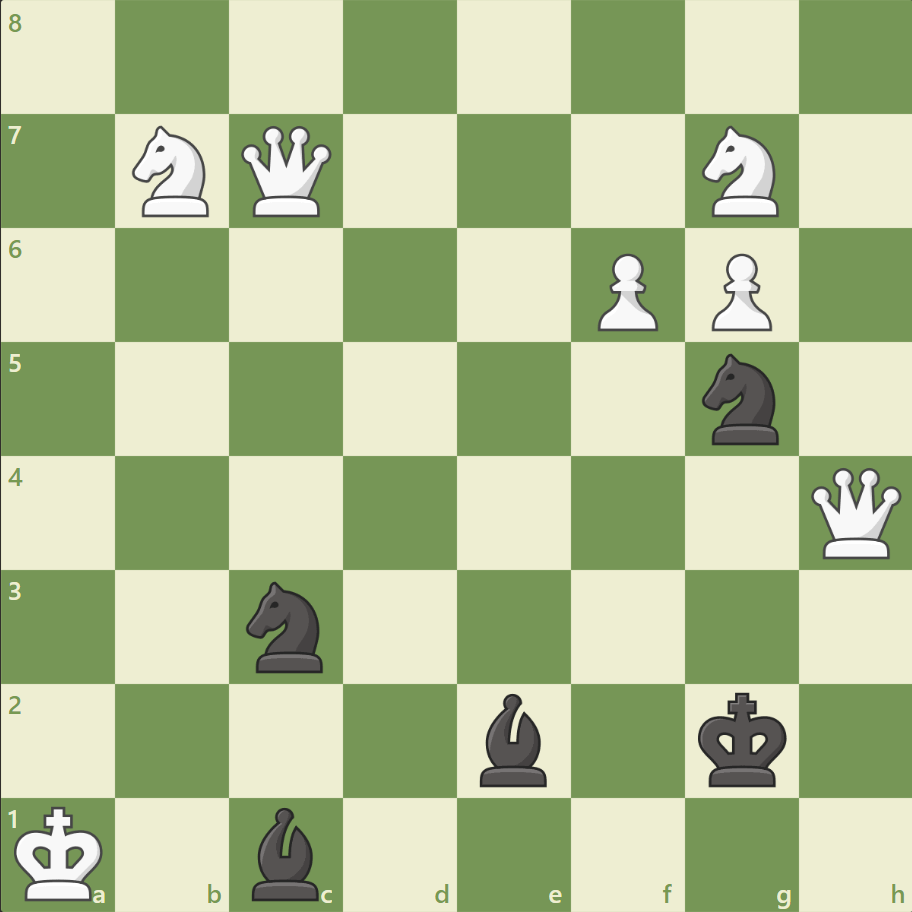K: (11, 798, 111, 906)
N: (124, 121, 222, 223), (692, 121, 789, 223)
P: (701, 246, 776, 337), (588, 246, 662, 337)
Q: (237, 122, 336, 222), (805, 463, 904, 562)
b: (471, 687, 555, 790), (244, 801, 328, 904)
k: (692, 685, 792, 793)
n: (692, 348, 789, 450), (238, 575, 335, 677)
